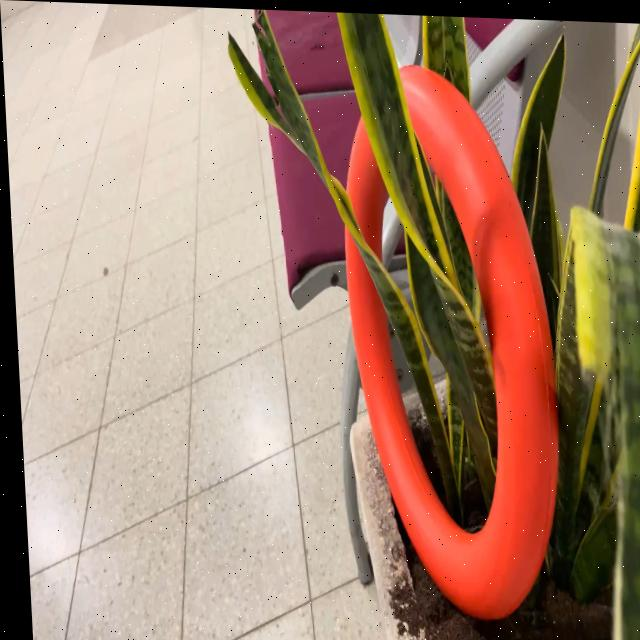note: (332, 57, 564, 622)
